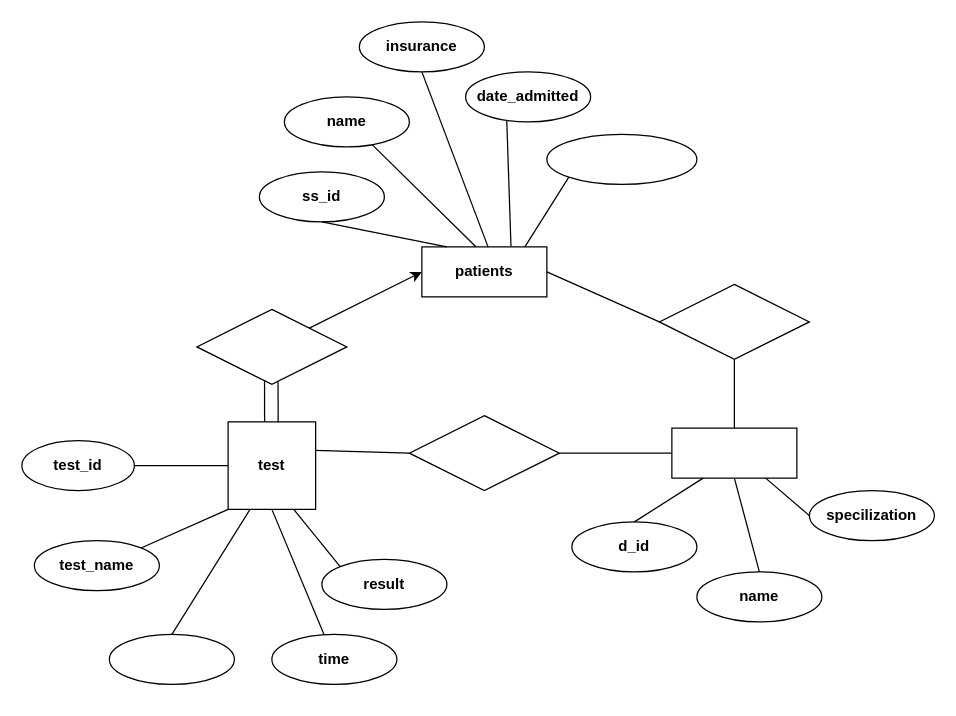
Image size: 956x716. Some labels were removed from this diagram. The shapes that lost their labels are listed below. From the top down, each one's centre as x and y in pixels, then its label:
point (621, 158): date_checked_out
point (733, 321): Dr - Patient
point (271, 346): test_log
point (483, 452): performed_by
point (734, 452): doctors
point (171, 658): date
